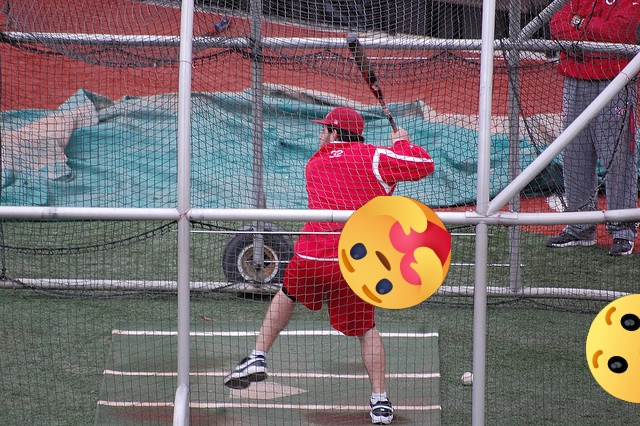care: (338, 196, 451, 309)
wow: (586, 294, 640, 403)
